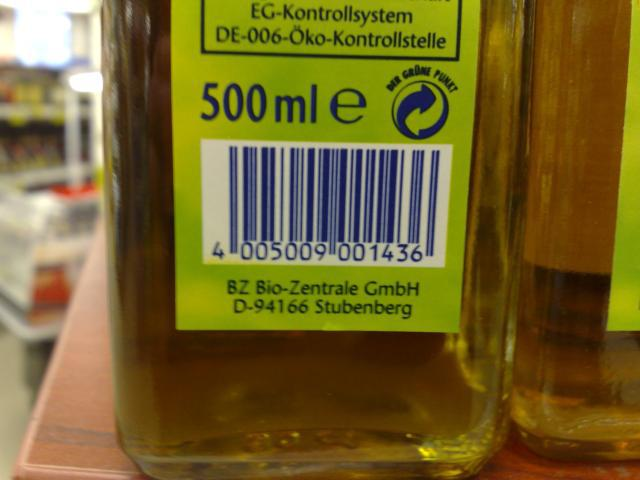Barkod: (225, 145, 439, 244)
